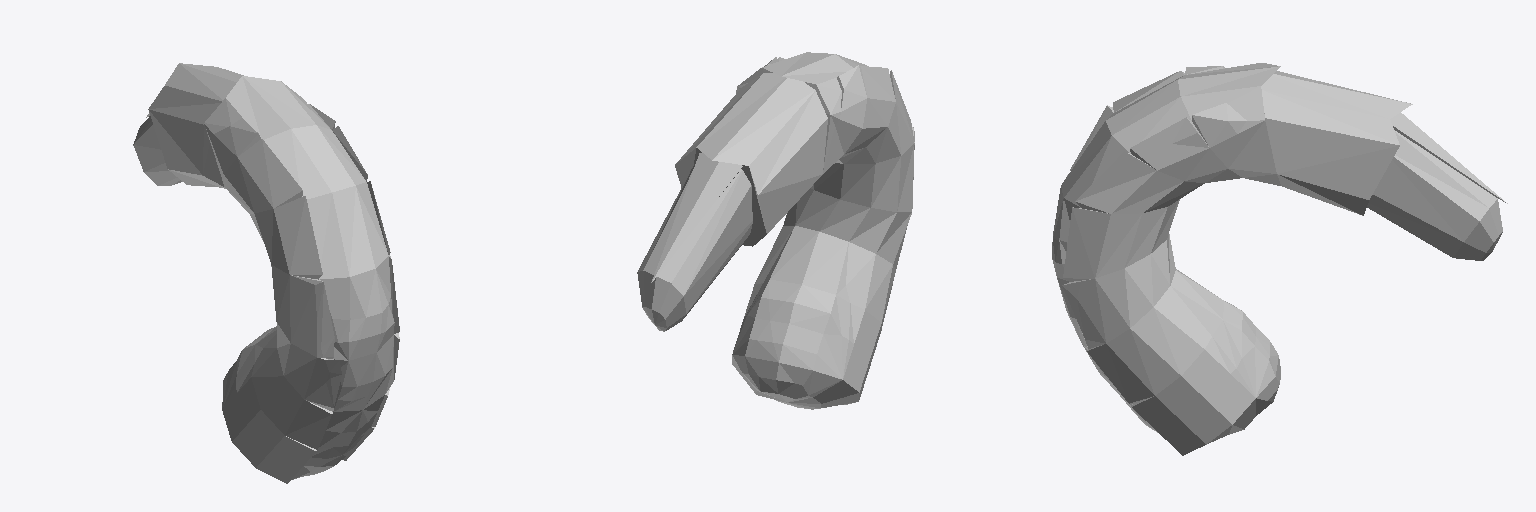
File: shrimp.obj
3 views of the same model, side by side, from view 1: azimuth 30°, elevation 25°; view 2: azimuth 150°, elevation 25°; view 3: azimuth 270°, elevation 25° (orthographic).
Visible parts, largest first — view 1: group[number redacted], group[number redacted], group[number redacted], group[number redacted], group[number redacted], group[number redacted], group[number redacted], group[number redacted], group[number redacted]; view 2: group[number redacted], group[number redacted], group[number redacted], group[number redacted], group[number redacted], group[number redacted], group[number redacted], group[number redacted], group[number redacted]; view 3: group[number redacted], group[number redacted], group[number redacted], group[number redacted], group[number redacted], group[number redacted], group[number redacted], group[number redacted], group[number redacted].
Boxes of the visible parts, <box> form: group[number redacted]: <box>250,181,390,279</box>; group[number redacted]: <box>271,255,399,360</box>; group[number redacted]: <box>224,125,367,213</box>; group[number redacted]: <box>203,76,335,188</box>; group[number redacted]: <box>222,326,374,483</box>; group[number redacted]: <box>148,63,243,187</box>; group[number redacted]: <box>251,327,389,449</box>; group[number redacted]: <box>277,323,399,411</box>; group[number redacted]: <box>133,113,181,185</box>; group[number redacted]: <box>732,280,881,409</box>; group[number redacted]: <box>675,73,827,246</box>; group[number redacted]: <box>637,153,752,331</box>; group[number redacted]: <box>754,226,895,330</box>; group[number redacted]: <box>736,52,866,173</box>; group[number redacted]: <box>783,188,911,268</box>; group[number redacted]: <box>811,127,914,211</box>; group[number redacted]: <box>777,54,895,157</box>; group[number redacted]: <box>836,70,913,163</box>; group[number redacted]: <box>1261,71,1412,215</box>; group[number redacted]: <box>1122,301,1280,455</box>; group[number redacted]: <box>1367,112,1507,260</box>; group[number redacted]: <box>1082,269,1223,403</box>; group[number redacted]: <box>1178,63,1280,185</box>; group[number redacted]: <box>1106,71,1241,182</box>; group[number redacted]: <box>1052,175,1179,281</box>; group[number redacted]: <box>1061,105,1204,213</box>; group[number redacted]: <box>1057,234,1175,348</box>.
Size of the model in its own units: 0.5637 by 1.56 by 1.75.